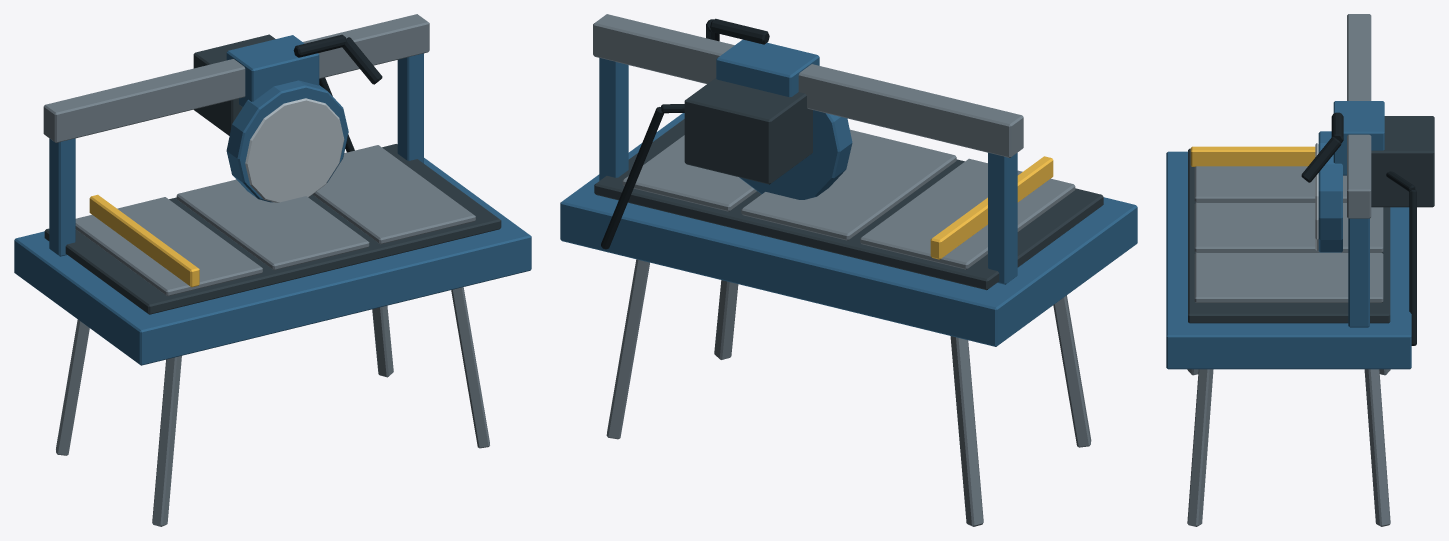
The model's file is b07_bridge_style_wet_tile_saw.glb.
The picture shows the model from 3 angles, left to right: view 1: azimuth 30°, elevation 25°; view 2: azimuth 150°, elevation 25°; view 3: azimuth 270°, elevation 25°; orthographic projection. The views are drawn at different scales.
Parts seen in each view (by area): view 1: b07_bridge_style_wet_tile_saw; view 2: b07_bridge_style_wet_tile_saw; view 3: b07_bridge_style_wet_tile_saw.
Part boxes in pixels (x1,y1,x2,y2): b07_bridge_style_wet_tile_saw: (14,14,531,526); b07_bridge_style_wet_tile_saw: (560,14,1137,526); b07_bridge_style_wet_tile_saw: (1166,14,1434,526).
Size of the model in its own units: 1.62 by 1.47 by 0.995.
